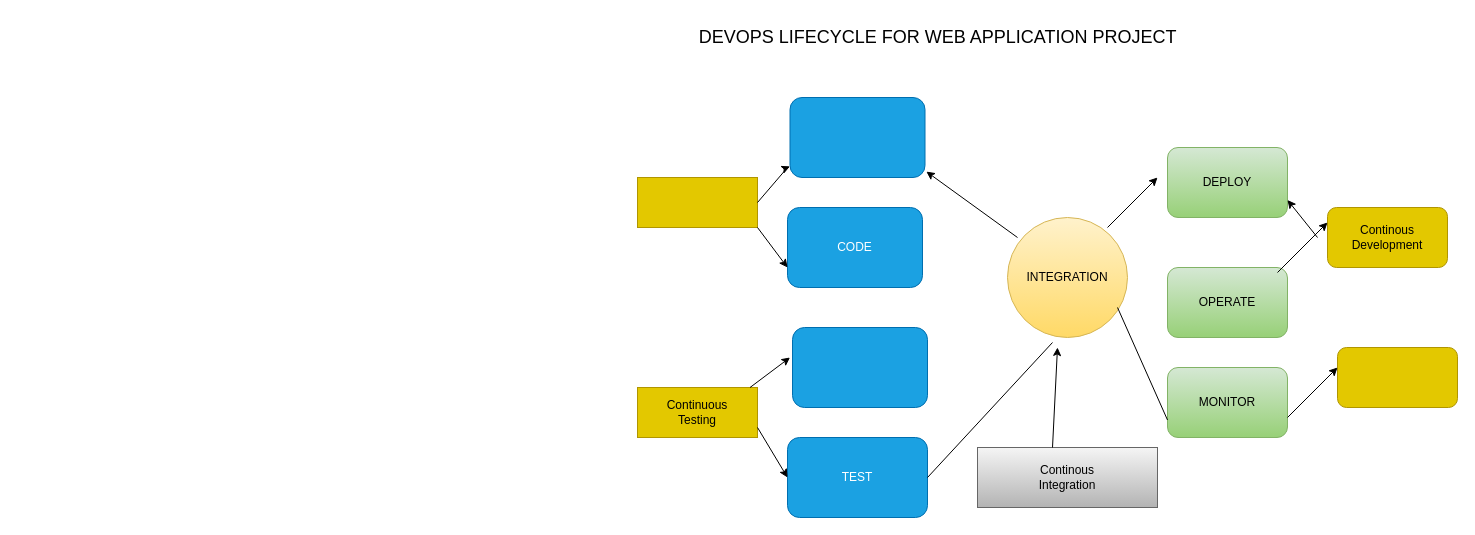
This 1475x535 diagram has some shape labels left out. The shapes that lost their labels are listed below. From the top down, each one's centre as x and y in pixels, then its label:
At (857,137): "PLAN".
At (697,202): "Continous Develpment".
At (860,367): "BUILD".
At (1397,377): "Continous Monitoring".
